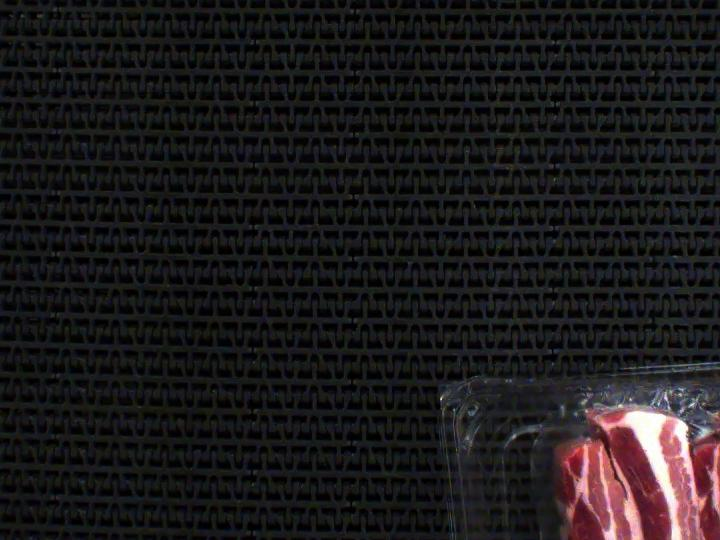unsealed: (527, 367, 720, 540)
